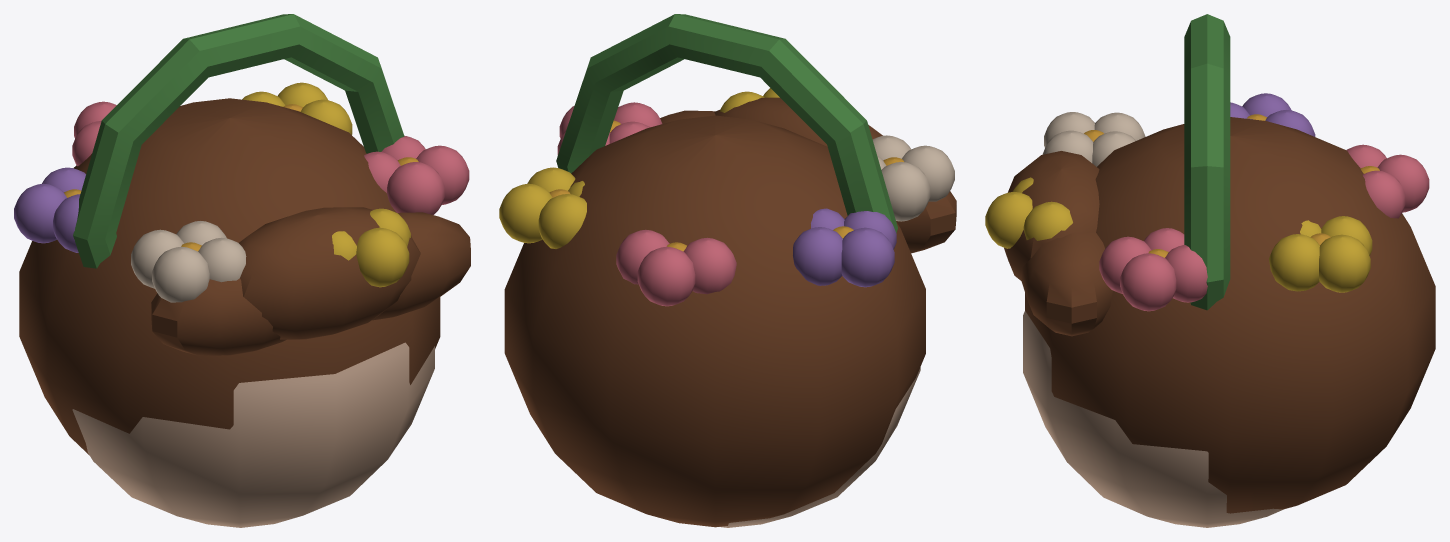
The model's file is boy-flower-head.glb.
3 views of the same model, side by side, from view 1: azimuth 30°, elevation 25°; view 2: azimuth 150°, elevation 25°; view 3: azimuth 270°, elevation 25° (orthographic). The views are drawn at different scales.
Visible parts, largest first — view 1: player_boy-flower:head; view 2: player_boy-flower:head; view 3: player_boy-flower:head.
Boxes of the visible parts, x1=… form: player_boy-flower:head: x1=14, y1=14, x2=470, y2=527; player_boy-flower:head: x1=499, y1=14, x2=956, y2=527; player_boy-flower:head: x1=985, y1=14, x2=1435, y2=527.
Bounding box in the file's own units: 0.4181 × 0.4988 × 0.4318.
